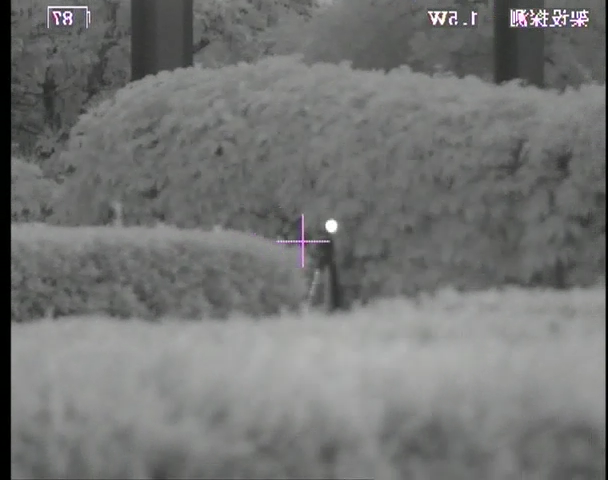my: (324, 219, 338, 233)
